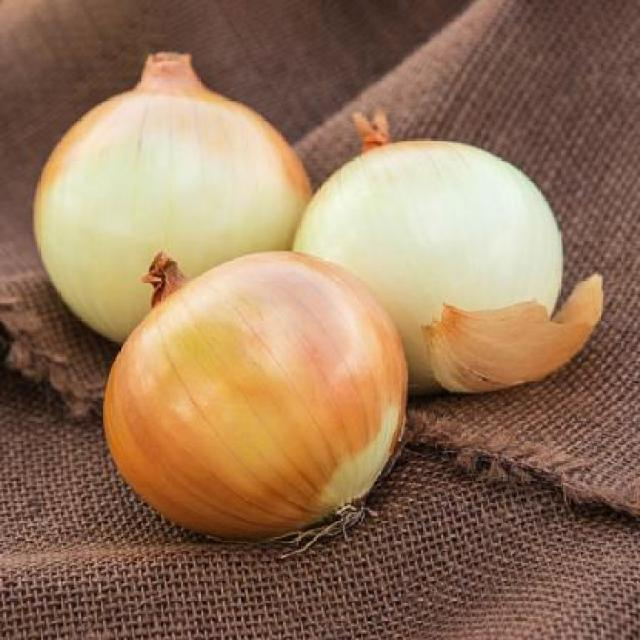Onion: (294, 113, 604, 394), (104, 252, 406, 538), (34, 54, 311, 342)
